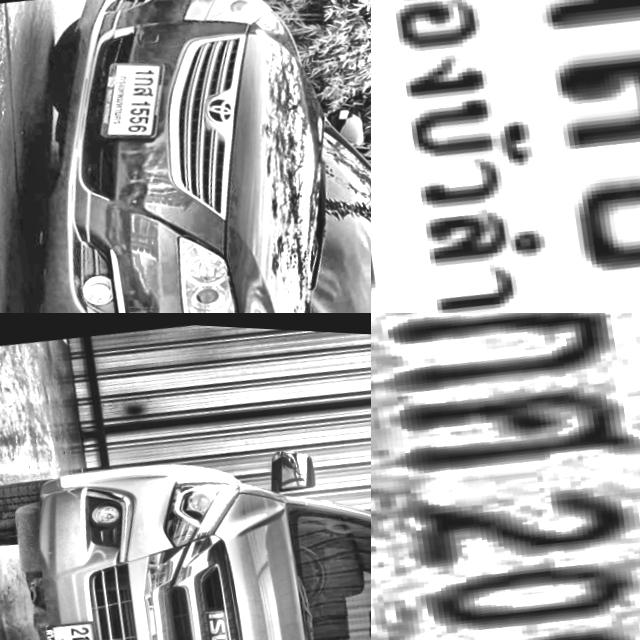license-plate: (371, 313, 640, 640), (371, 0, 640, 313), (84, 48, 182, 151), (33, 610, 116, 640)
